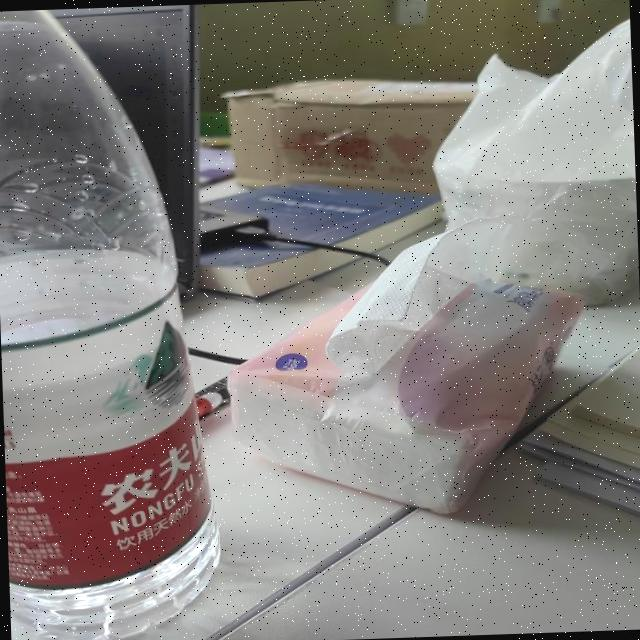bottle: (0, 11, 222, 640)
label: (1, 328, 222, 570)
